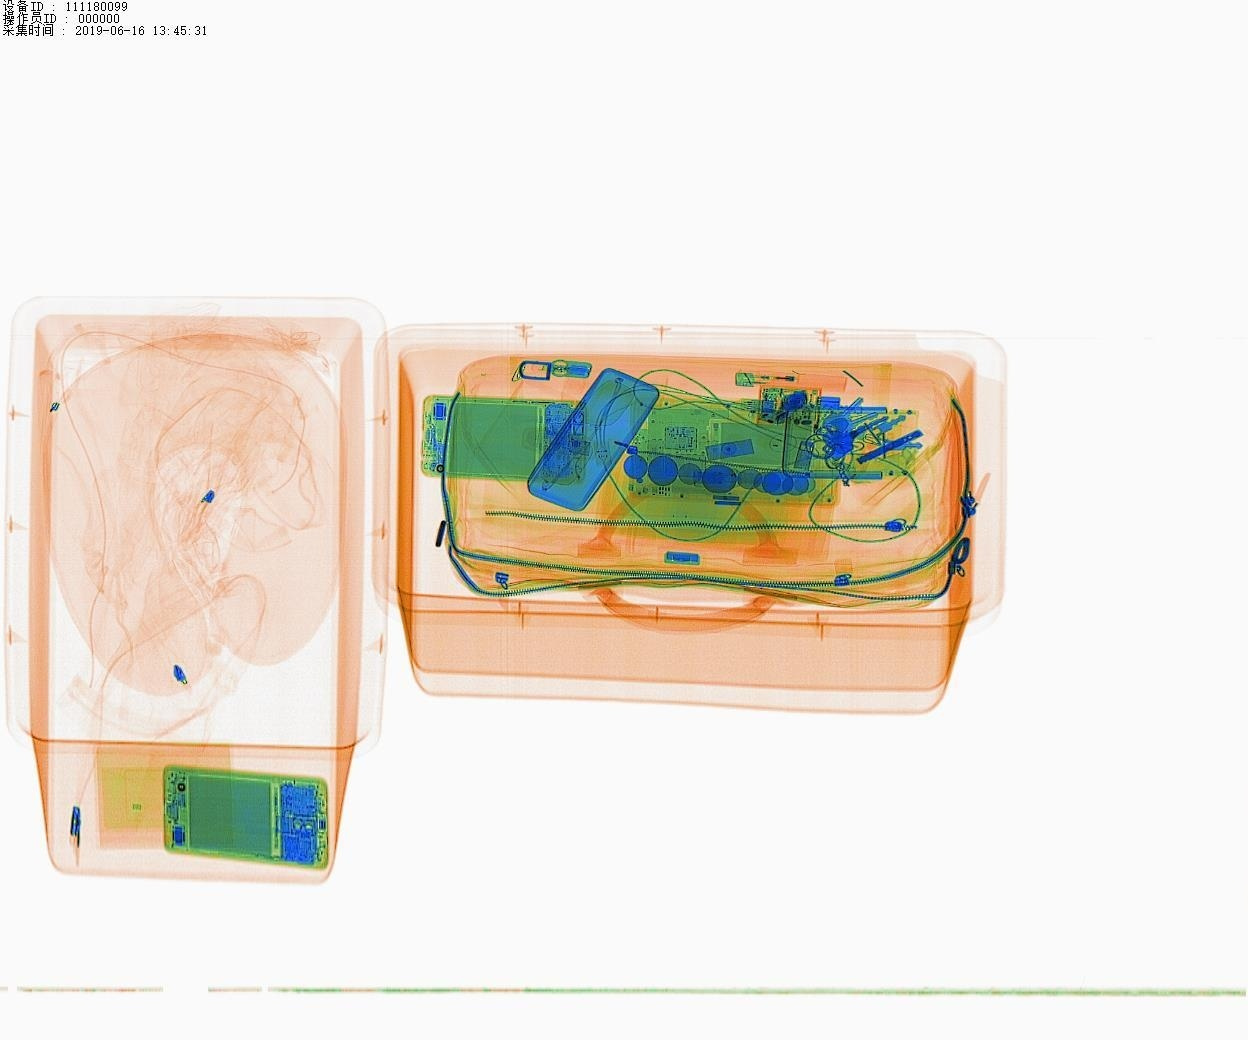NonmetallicFire: (725, 361, 863, 398)
